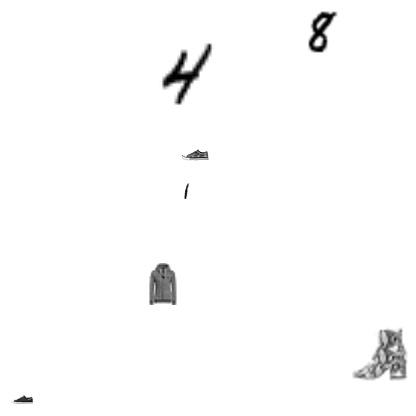4: (57, 339, 71, 353)
8: (46, 185, 158, 297)
9: (262, 57, 374, 169)
Ankle_boot: (93, 26, 205, 138)
Sandal: (32, 385, 60, 413)
Shirt: (190, 180, 246, 236)
Sneaker: (390, 284, 404, 298)
